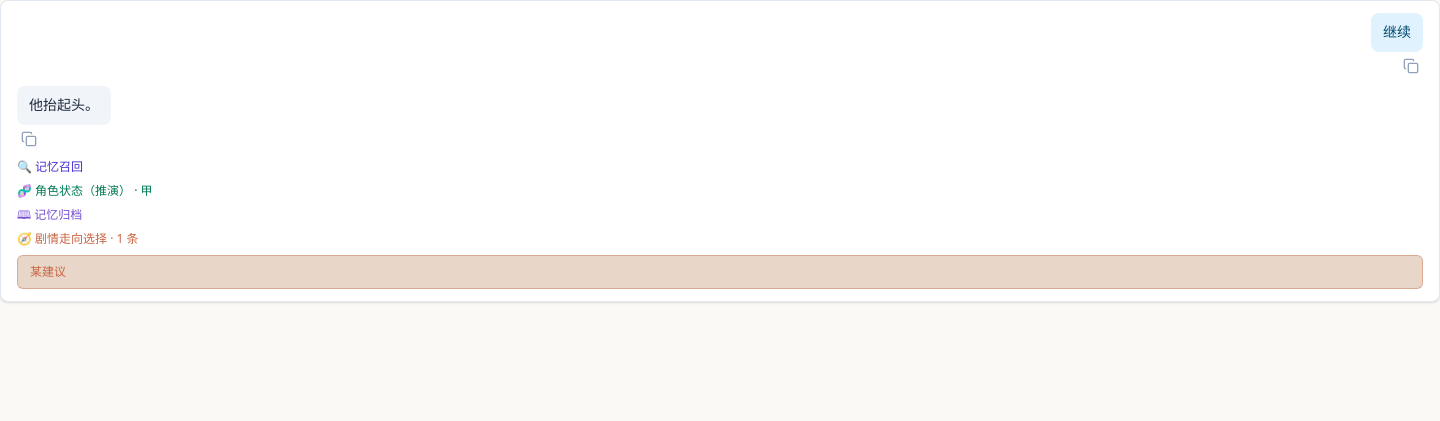
Scenario: TurnSegments › aggregates multiple event-log entries under a single bubble
Click the button "🕮 记忆归档". click: (50, 214)
box: [17, 206, 82, 222]
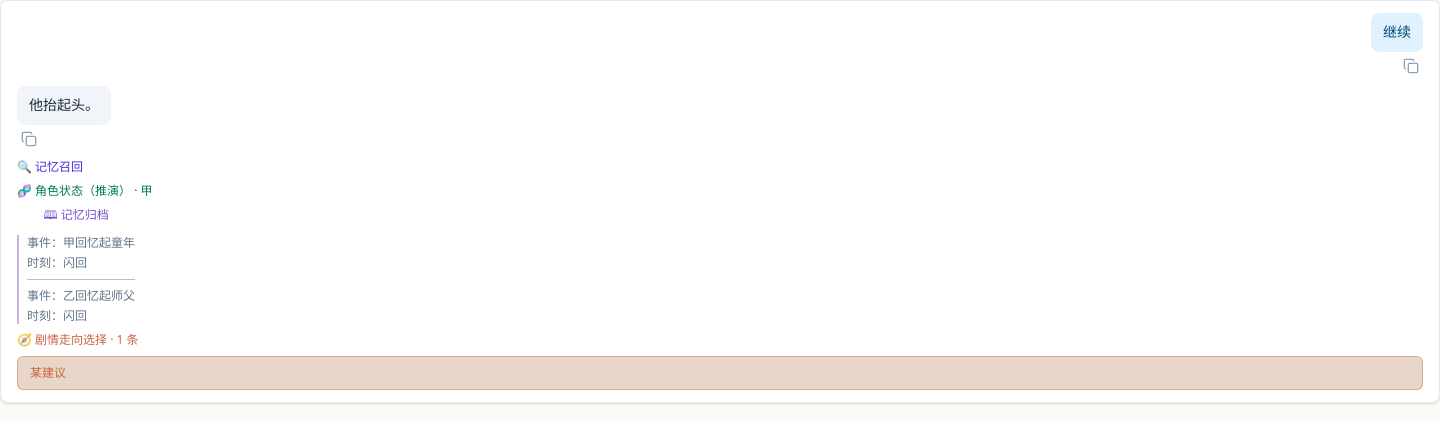
Expected: the text "事件：甲回忆起童年" is shown, [27, 234, 135, 250]
Expected: the text "事件：乙回忆起师父" is shown, [27, 288, 135, 304]
